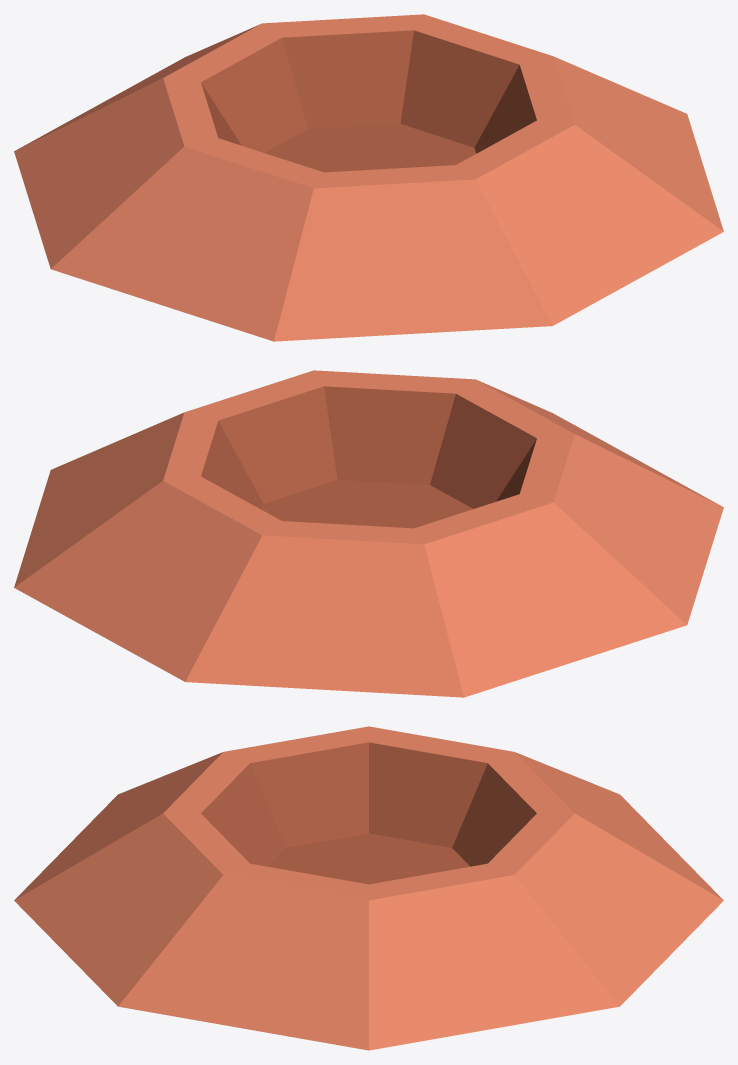
Rendered from k-crater-large.glb.
3 renders of one model, top to bottom at view 1: azimuth 30°, elevation 25°; view 2: azimuth 150°, elevation 25°; view 3: azimuth 270°, elevation 25°, orthographic. The views are drawn at different scales.
Visible parts, largest first — view 1: craterLarge; view 2: craterLarge; view 3: craterLarge.
Part boxes in pixels (x1=…): craterLarge: x1=14, y1=14, x2=723, y2=341; craterLarge: x1=14, y1=370, x2=723, y2=697; craterLarge: x1=14, y1=726, x2=723, y2=1050.
Size of the model in its own units: 0.886 by 0.12 by 0.886.
